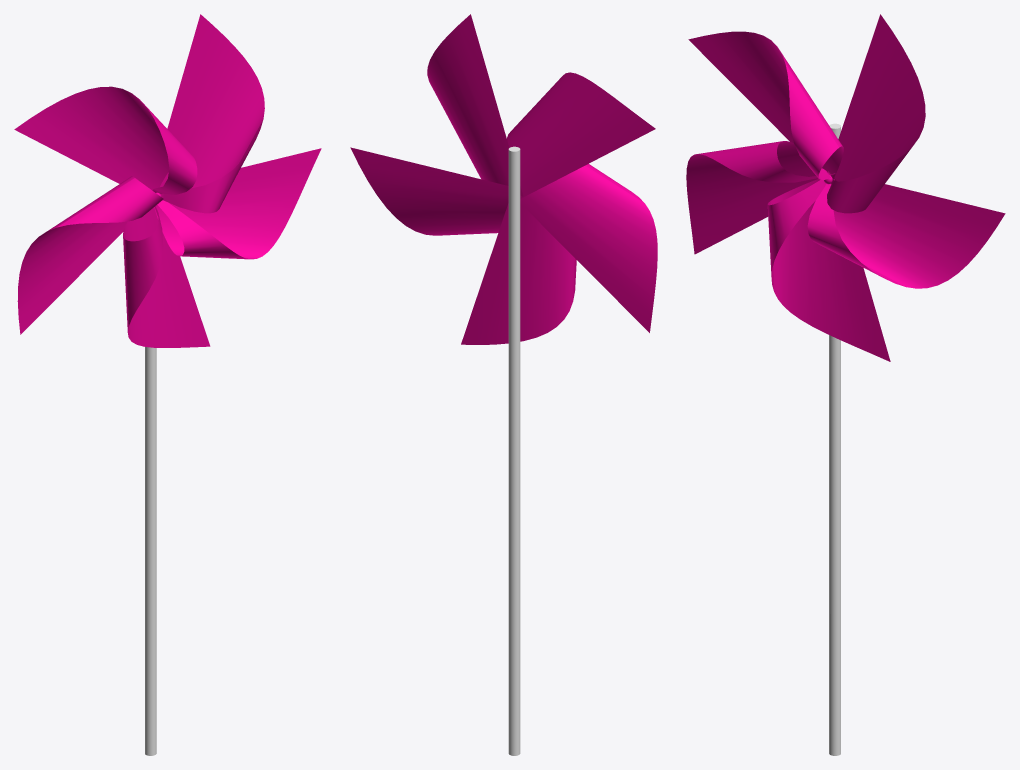
The model's file is vetrodui_opt_color1.glb.
3 renders of one model, left to right at view 1: azimuth 30°, elevation 25°; view 2: azimuth 150°, elevation 25°; view 3: azimuth 330°, elevation 25°, orthographic. The views are drawn at different scales.
Visible parts, largest first — view 1: Sphere001, Cylinder001; view 2: Sphere001, Cylinder001; view 3: Sphere001, Cylinder001.
Part boxes in pixels (left/top/right/bottom): Sphere001: left=14, top=14, right=321, bottom=347; Cylinder001: left=145, top=347, right=156, bottom=755; Sphere001: left=350, top=14, right=657, bottom=344; Cylinder001: left=508, top=146, right=520, bottom=755; Sphere001: left=686, top=14, right=1005, bottom=361; Cylinder001: left=829, top=123, right=840, bottom=755.
Bounding box in the file's own units: 1.88 × 4.27 × 0.3469.
